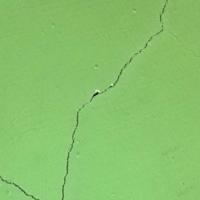crack: (40, 24, 199, 199)
